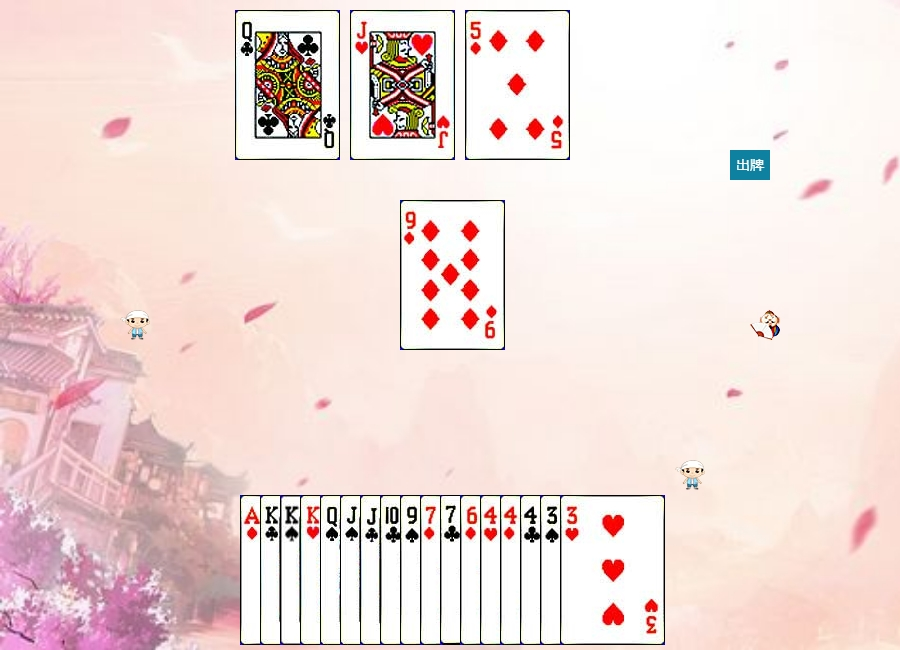10~2: (380, 495, 485, 645)
11~2: (360, 495, 465, 645)
11~3: (350, 10, 455, 160)
11~4: (340, 495, 445, 645)
12~2: (235, 10, 340, 160)
12~4: (320, 495, 425, 645)
13~2: (260, 495, 365, 645)
13~3: (300, 495, 405, 645)
13~4: (280, 495, 385, 645)
14~1: (240, 495, 345, 645)
3~3: (560, 495, 665, 645)
3~4: (540, 495, 645, 645)
4~1: (500, 495, 605, 645)
4~2: (520, 495, 625, 645)
4~3: (480, 495, 585, 645)
5~1: (465, 10, 570, 160)
6~1: (460, 495, 565, 645)
7~1: (420, 495, 525, 645)
7~2: (440, 495, 545, 645)
9~1: (400, 200, 505, 350)
9~4: (400, 495, 505, 645)
